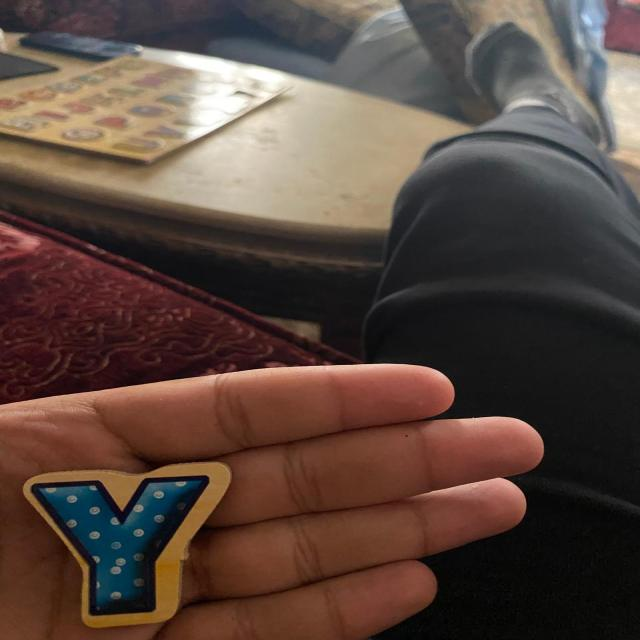Y: (24, 462, 230, 628)
